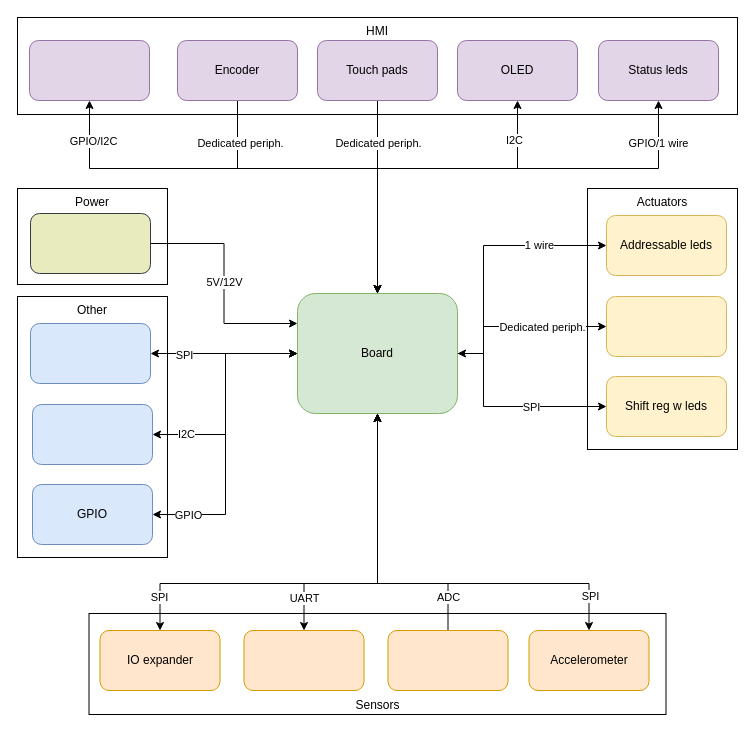
The diagram is 755 pixels wide and 732 high, and some of its shapes have lost their labels. Each missing label, with the centre of its shape:
"Buttons" belongs at point (89, 70).
"EEPROM" belongs at point (90, 353).
"HC05/GPS" belongs at point (303, 660).
"Motor power" belongs at point (90, 243).
"Motordriver" belongs at point (666, 326).
"NTC" belongs at point (447, 660).
"RTC" belongs at point (92, 434).
